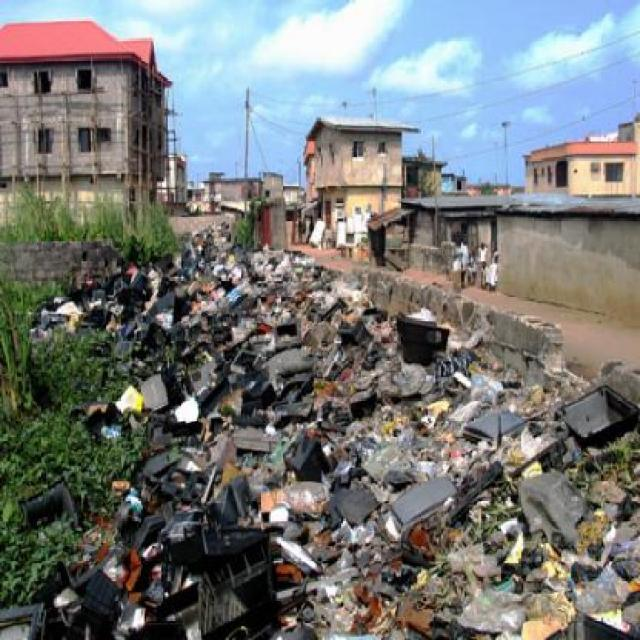garbage: (86, 259, 374, 636), (354, 369, 624, 613)
